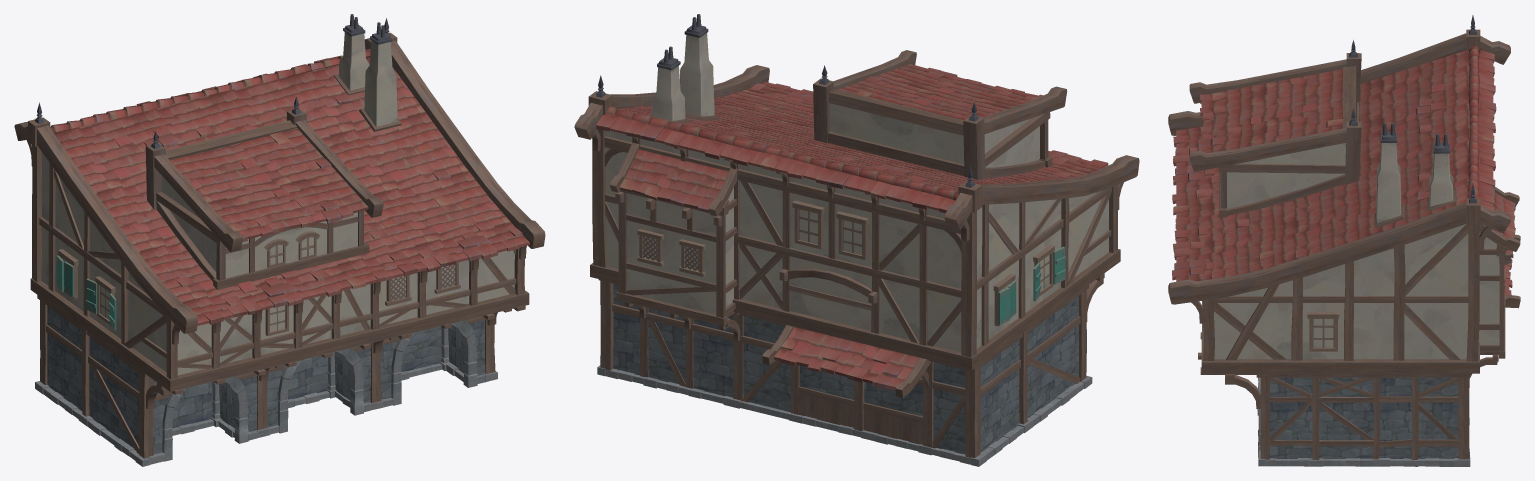
Rendered from Homeworld_Exterior_Md_Build_House_01_Lod0.fbx.
The picture shows the model from 3 angles, left to right: view 1: azimuth 30°, elevation 25°; view 2: azimuth 150°, elevation 25°; view 3: azimuth 270°, elevation 25°; orthographic projection. The views are drawn at different scales.
Parts seen in each view (by area): view 1: Area_MdBuild_House23_Lod0; view 2: Area_MdBuild_House23_Lod0; view 3: Area_MdBuild_House23_Lod0.
Boxes of the visible parts, x1=… form: Area_MdBuild_House23_Lod0: x1=14, y1=14, x2=545, y2=466; Area_MdBuild_House23_Lod0: x1=574, y1=14, x2=1139, y2=466; Area_MdBuild_House23_Lod0: x1=1168, y1=15, x2=1520, y2=466.
Size of what is drawn, in the model's own units: 15.73 by 13.29 by 13.3.
